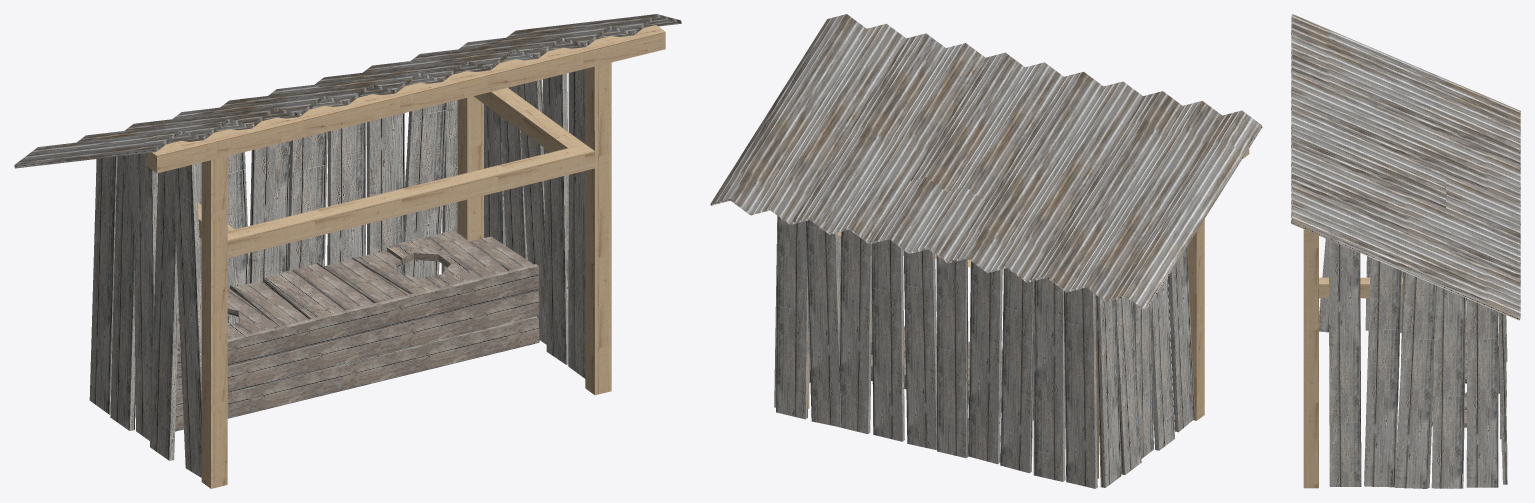
File: Toilet.fbx
3 views of the same model, side by side, from view 1: azimuth 30°, elevation 25°; view 2: azimuth 150°, elevation 25°; view 3: azimuth 270°, elevation 25° (orthographic). The views are drawn at different scales.
Visible parts, largest first — view 1: Toilet; view 2: Toilet; view 3: Toilet.
Boxes of the visible parts, x1,y1,x2,y2 form: Toilet: (14, 14, 681, 488); Toilet: (710, 14, 1262, 488); Toilet: (1291, 14, 1520, 488).
Size of the model in its own units: 483 by 328 by 226.
